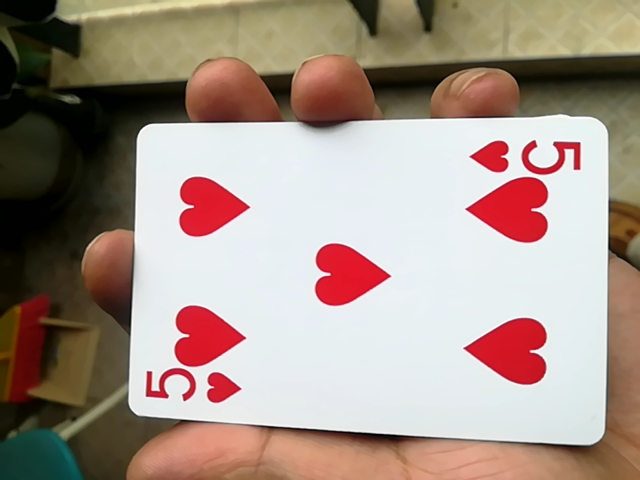hx 5: (121, 115, 604, 448)
